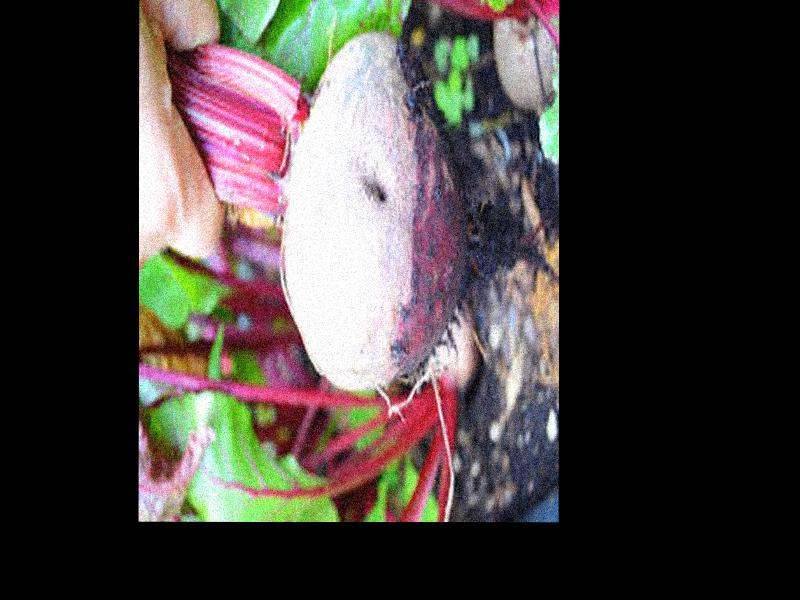Beet: (166, 32, 559, 394)
